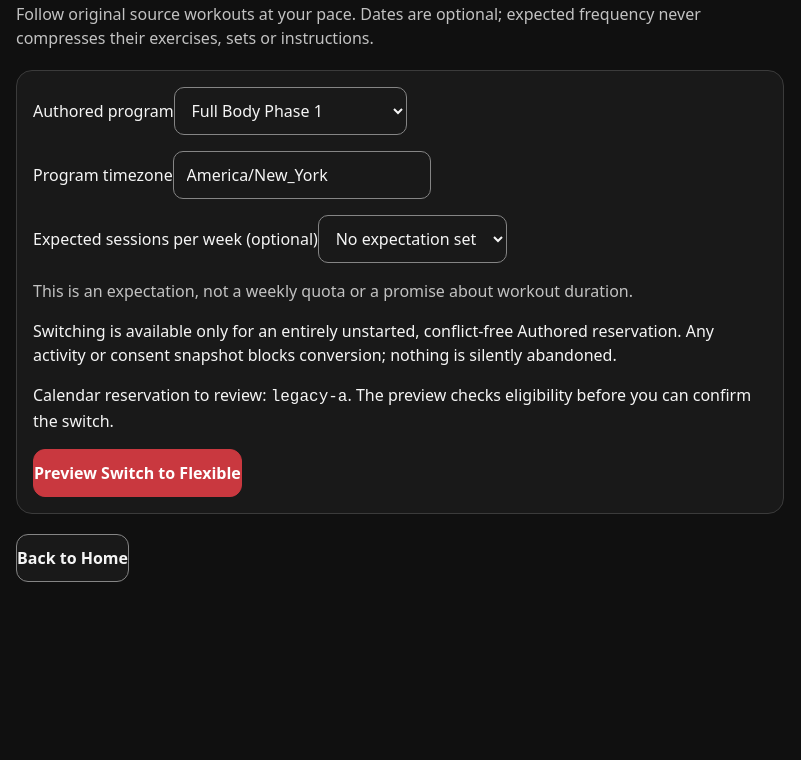
Scenario: started legacy work blocks confirmation, next-week-only=false
What coordinates should you click on to do the following:
click the button "Preview Switch to Flexible"
I would click on:
 (137, 473)
Its box is [33, 449, 242, 497].
(page scrolled)
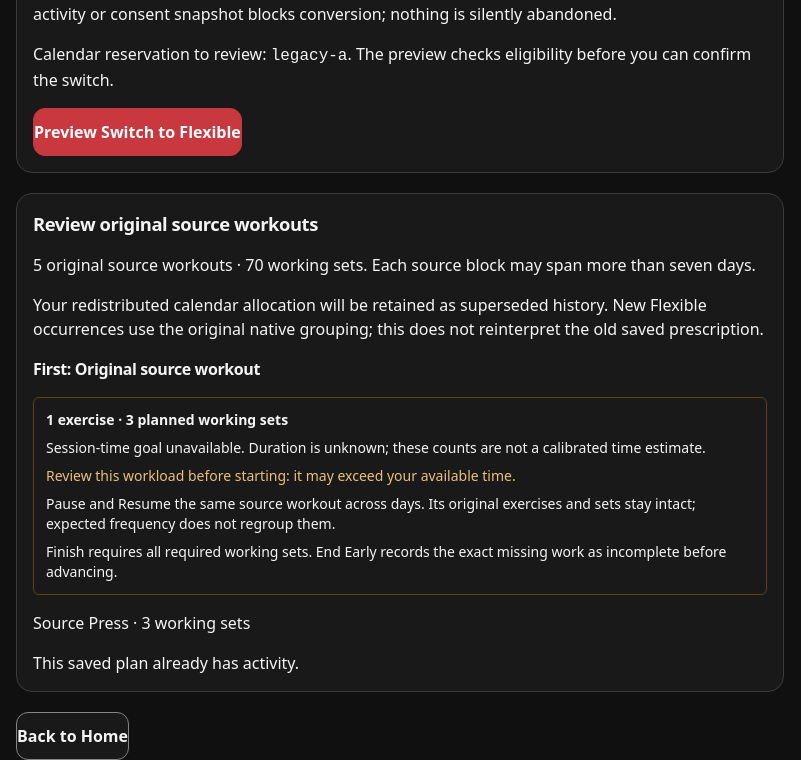
Expected: the text "This saved plan already has activity." is shown, [33, 652, 299, 674]
